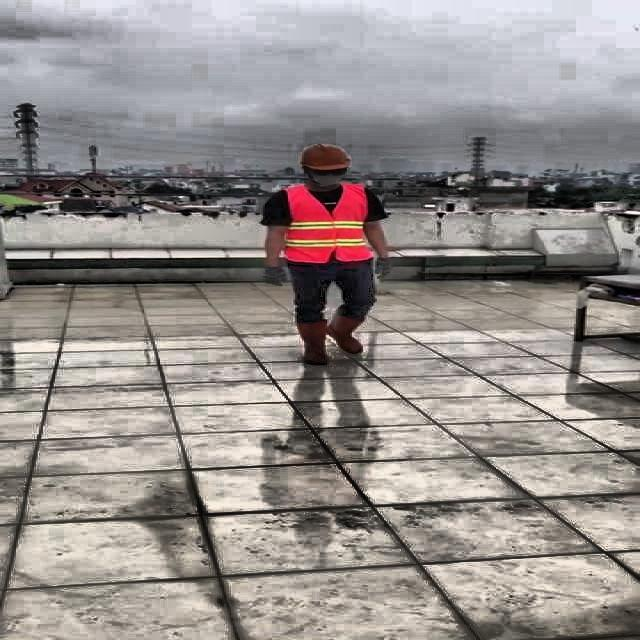safety_helmet: (293, 142, 354, 173)
safety_jacket: (284, 185, 376, 262)
